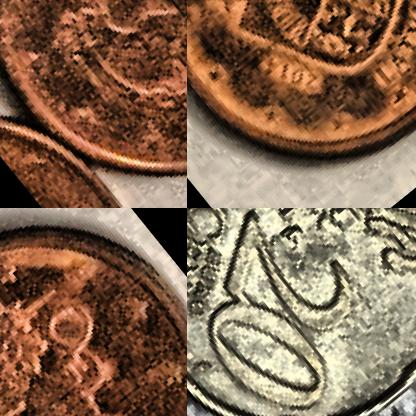coin: (187, 0, 415, 207), (187, 208, 415, 415), (0, 0, 186, 207), (0, 208, 186, 415)
